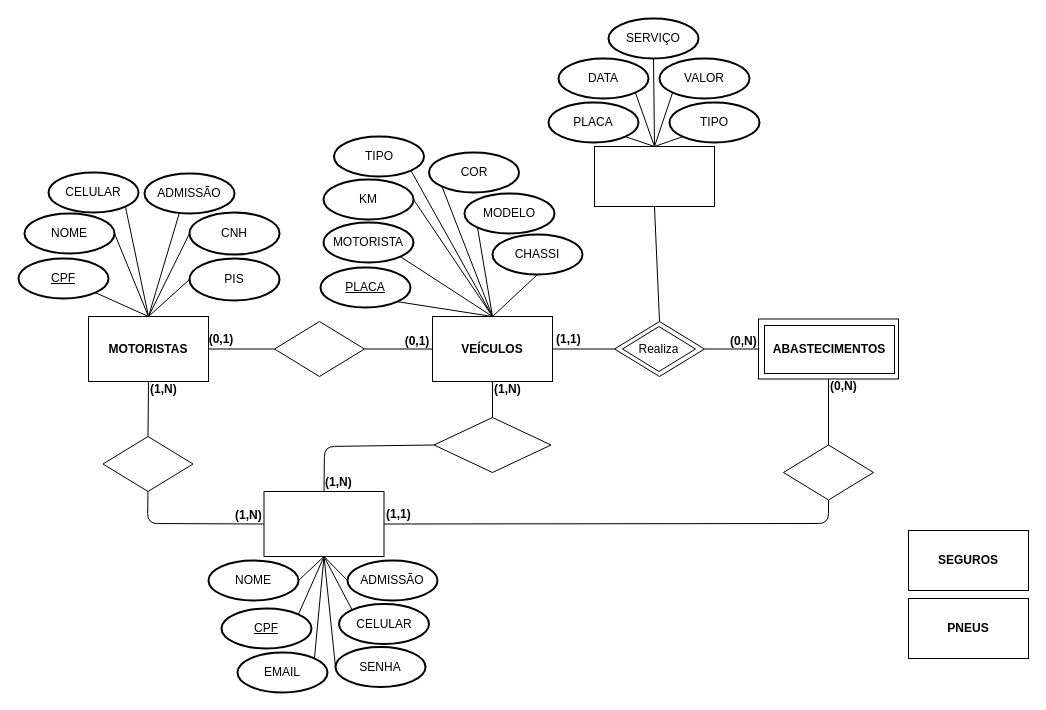
This 1046x710 diagram has some shape labels left out. The shapes that lost their labels are listed below. From the top down, each one's box as (x1, y1, x2, y2) in pixels, then its label:
(594, 146, 714, 206): MANUTENÇÃO
(274, 320, 364, 376): Possui
(102, 436, 193, 492): Gerencia
(433, 416, 551, 472): RegistraVeiculo
(782, 444, 874, 500): Registra
(263, 490, 384, 556): GERENTE
